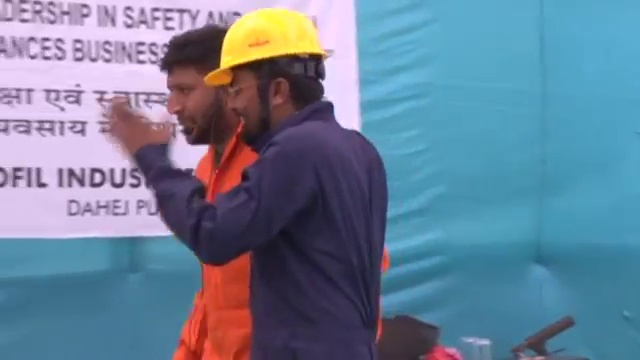helmet: (203, 8, 328, 85)
helmet_off: (159, 25, 239, 151)
helmet_on: (202, 9, 344, 146)
person: (93, 8, 390, 360), (157, 23, 252, 360)
